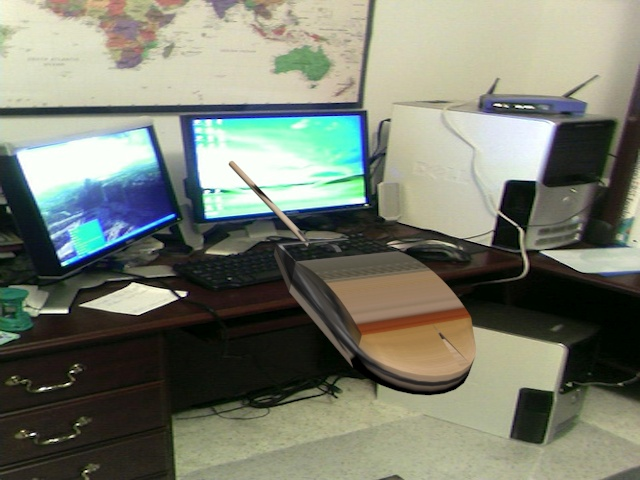mouse: (224, 160, 481, 401)
